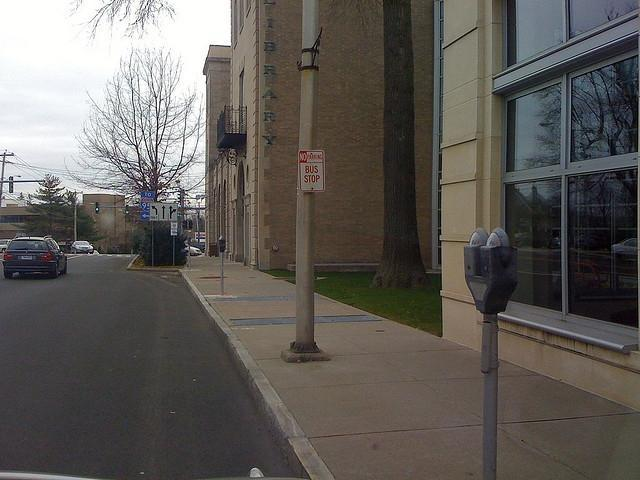car: (2, 234, 69, 280), (69, 241, 94, 254), (184, 242, 202, 256), (0, 239, 12, 253)
